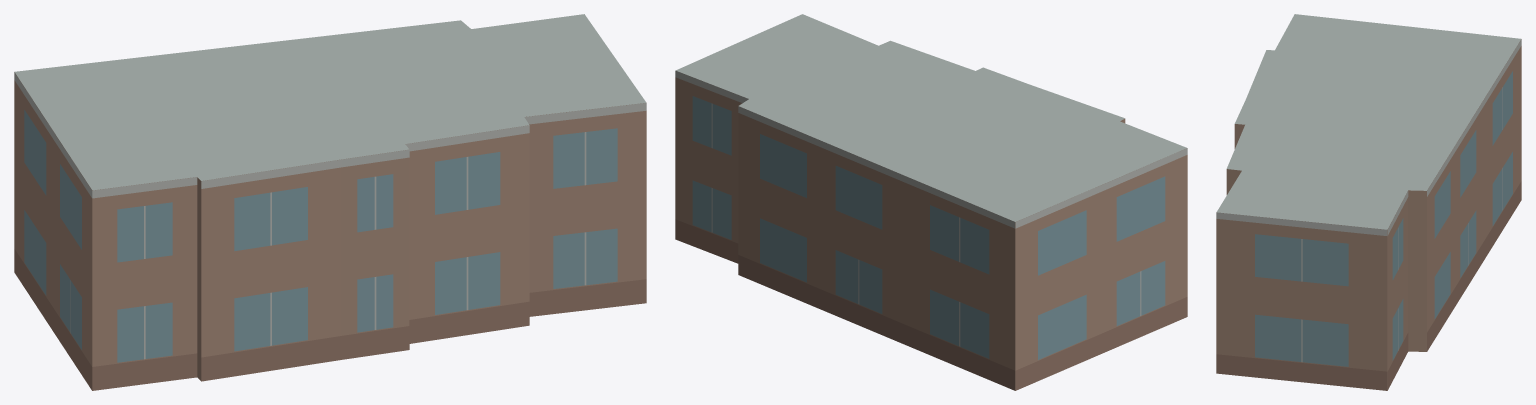
File: survey-upis-32800248.glb
3 views of the same model, side by side, from view 1: azimuth 30°, elevation 25°; view 2: azimuth 150°, elevation 25°; view 3: azimuth 270°, elevation 25° (orthographic). The views are drawn at different scales.
Visible parts, largest first — view 1: survey-upis-32800248.tmp; view 2: survey-upis-32800248.tmp; view 3: survey-upis-32800248.tmp.
Part boxes in pixels (left/top/right/bottom): survey-upis-32800248.tmp: left=14, top=14, right=646, bottom=390; survey-upis-32800248.tmp: left=675, top=14, right=1187, bottom=390; survey-upis-32800248.tmp: left=1216, top=14, right=1521, bottom=390.
Size of the model in its own units: 17.53 by 6.1 by 10.48.
